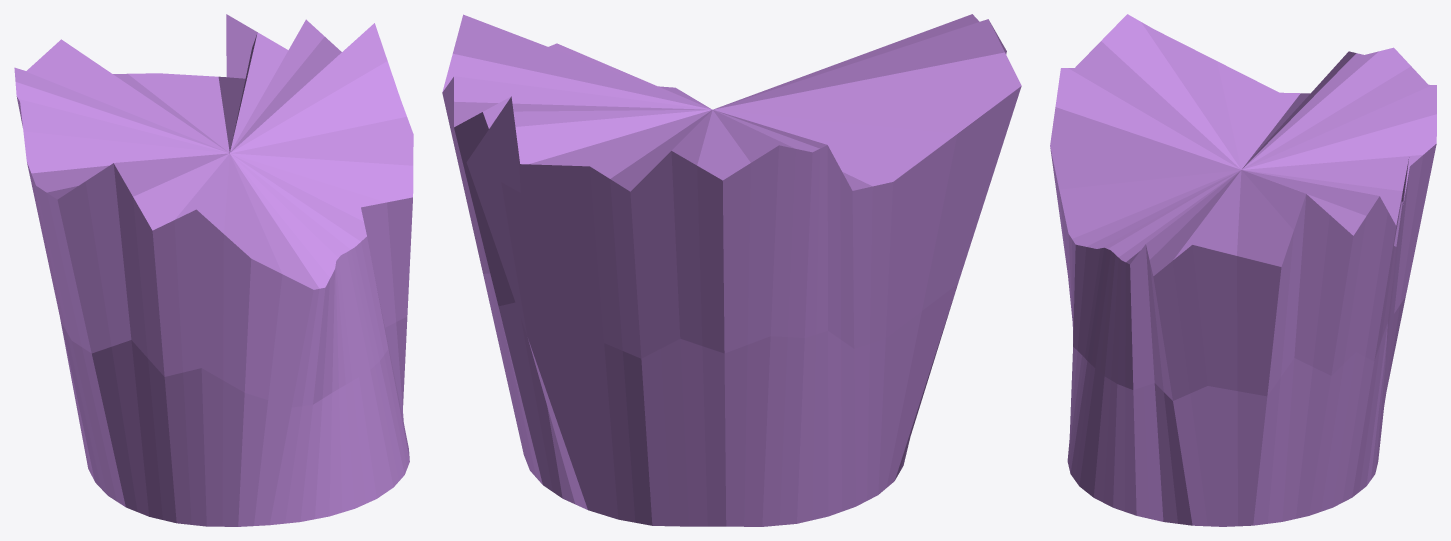
Rendered from Rock.fbx.
The picture shows the model from 3 angles, left to right: view 1: azimuth 30°, elevation 25°; view 2: azimuth 150°, elevation 25°; view 3: azimuth 270°, elevation 25°; orthographic projection. The views are drawn at different scales.
Visible parts, largest first — view 1: Cylinder; view 2: Cylinder; view 3: Cylinder.
Boxes of the visible parts, x1,y1,x2,y2 form: Cylinder: [14, 14, 413, 526]; Cylinder: [442, 14, 1021, 526]; Cylinder: [1050, 14, 1436, 526].
Bounding box in the file's own units: 292 × 259 × 249.
